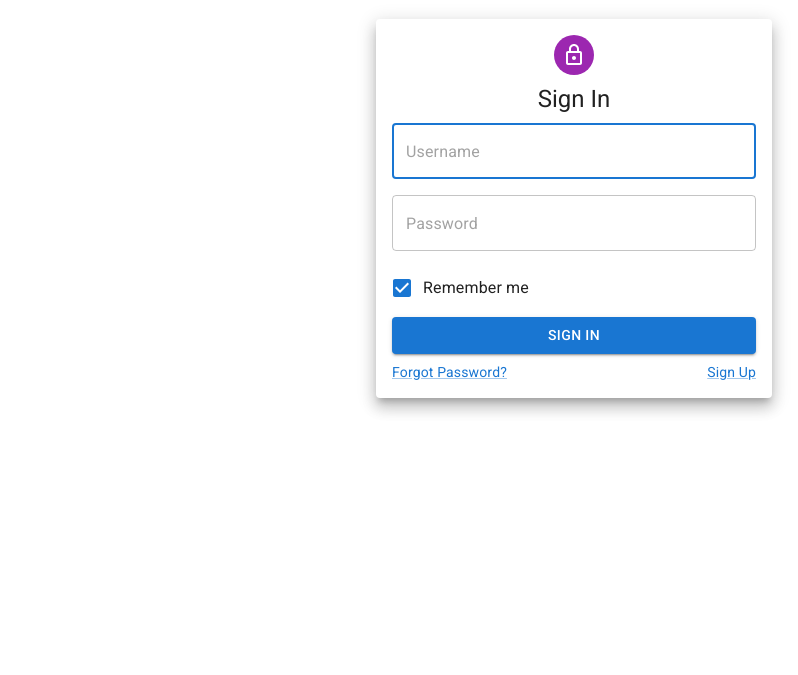
Test: LoginPage › shows error snackbar when login fails
The image size is (798, 675).
Click the button "Sign In" at (574, 335), box [392,317,756,354]
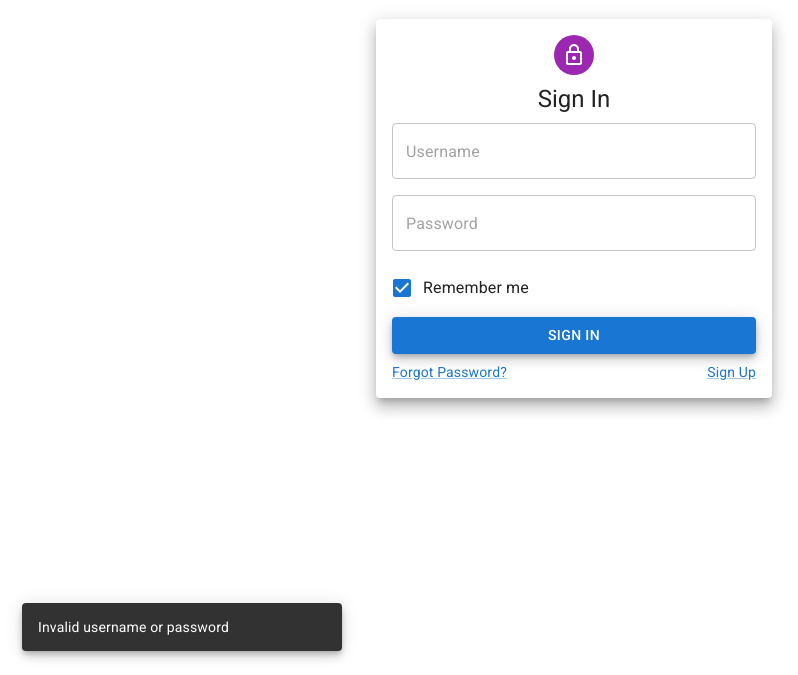
Now the text "Invalid username or password" is shown, box [38,619,229,635]
